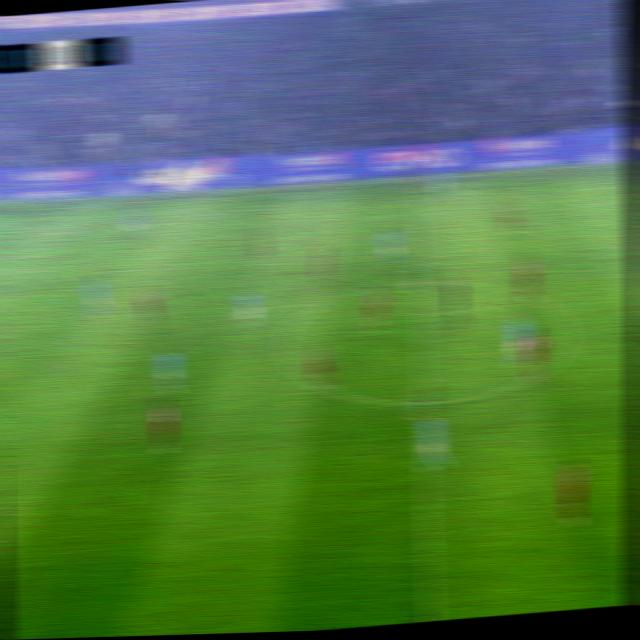bigarea_top_inner: (0, 241, 8, 265)
halfcircle_bottom: (406, 386, 442, 420)
halfcircle_top: (404, 267, 434, 293)
midline_top_intersection: (406, 174, 431, 198)
